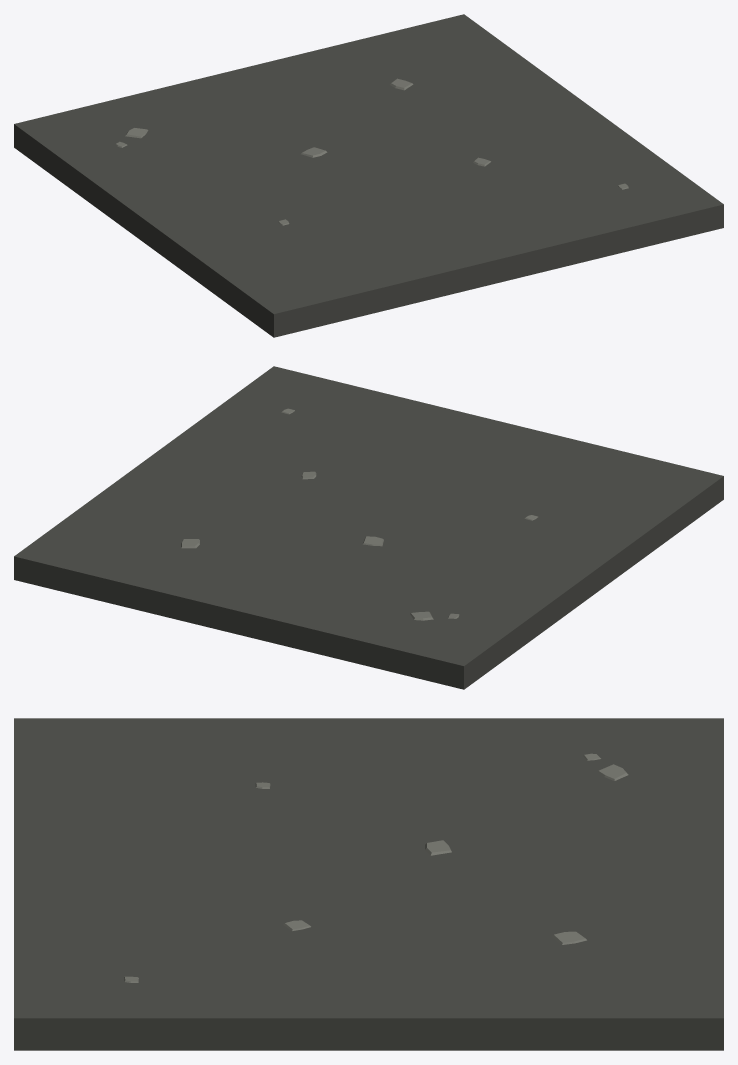
Rendered from Floor_6.fbx.
3 renders of one model, top to bottom at view 1: azimuth 30°, elevation 25°; view 2: azimuth 150°, elevation 25°; view 3: azimuth 270°, elevation 25°, orthographic. The views are drawn at different scales.
Visible parts, largest first — view 1: Floor_6; view 2: Floor_6; view 3: Floor_6.
Boxes of the visible parts, x1,y1,x2,y2 form: Floor_6: (14,14,723,337); Floor_6: (14,366,723,689); Floor_6: (14,718,723,1050).
Size of the model in its own units: 200 by 10.72 by 200.
